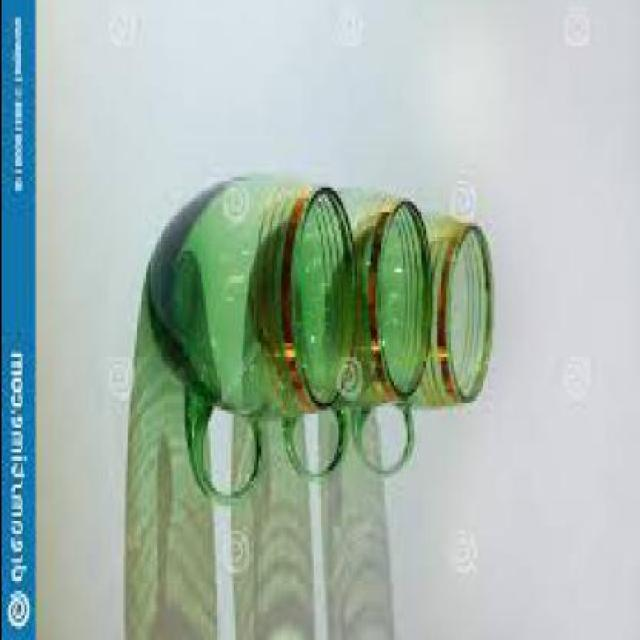glass: (149, 180, 360, 506), (280, 198, 434, 484), (355, 215, 494, 477)
